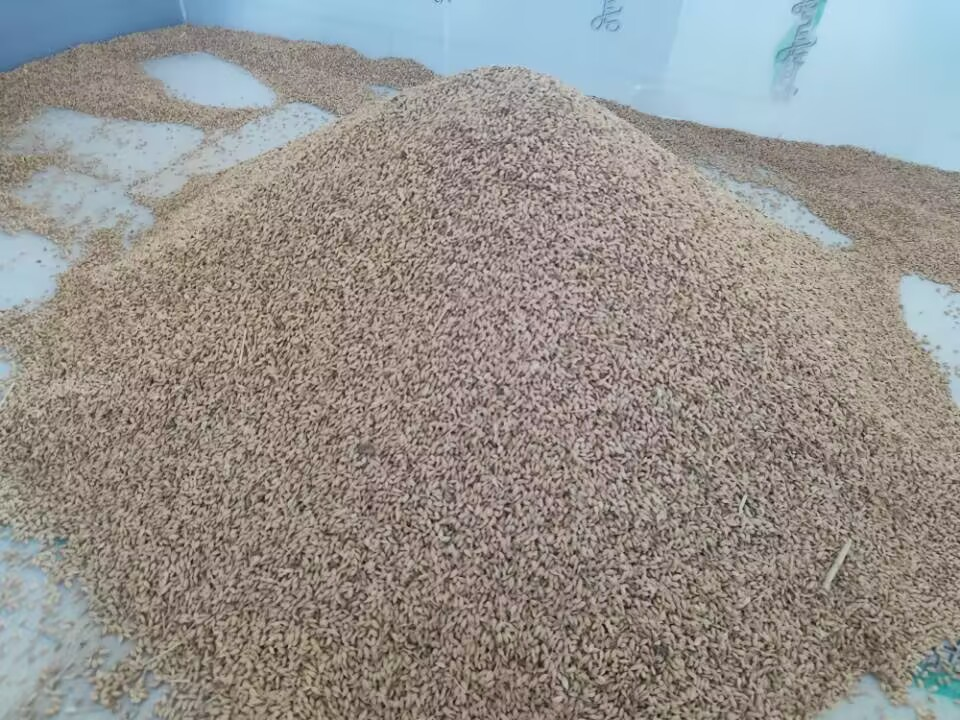Grain: (204, 33, 814, 588)
